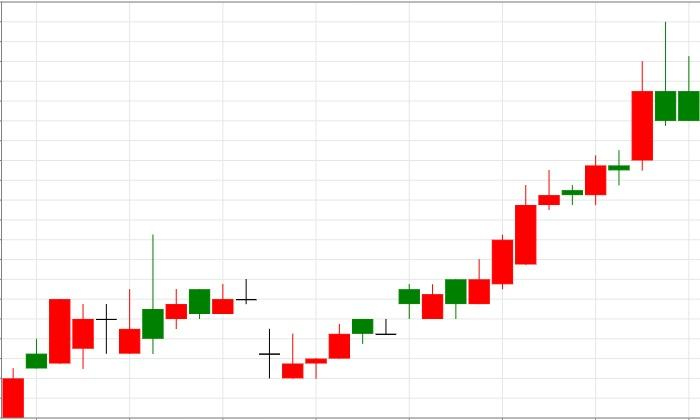shooting_star_fall: (469, 21, 676, 304)
